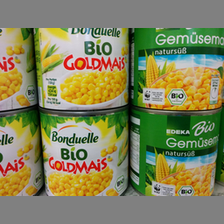corn: (128, 109, 223, 196), (37, 109, 129, 196), (33, 29, 131, 110), (132, 29, 224, 111), (1, 108, 43, 196), (1, 29, 38, 109)
